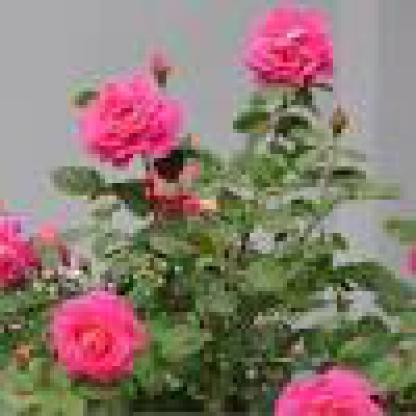Rose-Mawar: (68, 68, 184, 163), (47, 284, 147, 379), (230, 6, 338, 89)
